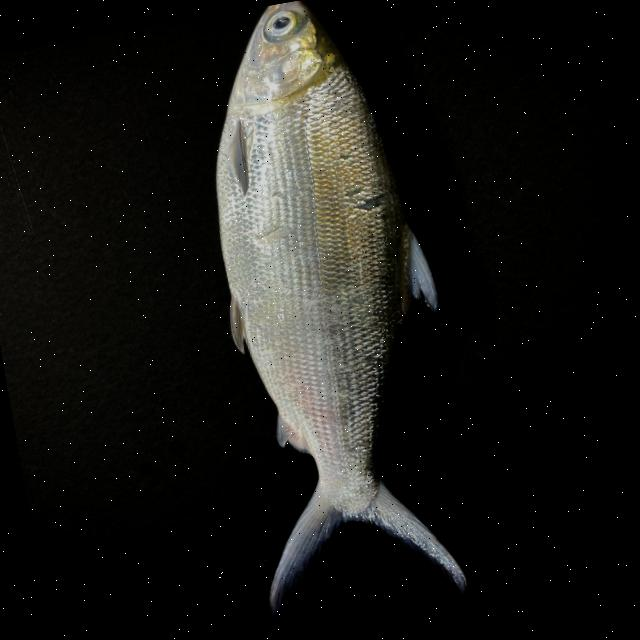780 g: (164, 0, 492, 628)
